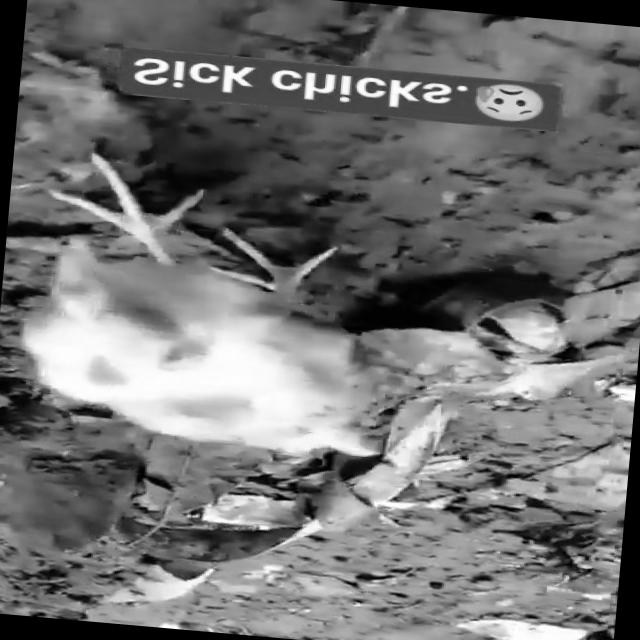abnormal chicken: (0, 147, 385, 500)
